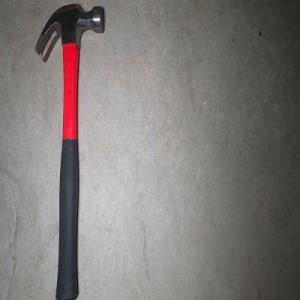Hammer: (34, 2, 104, 300)
